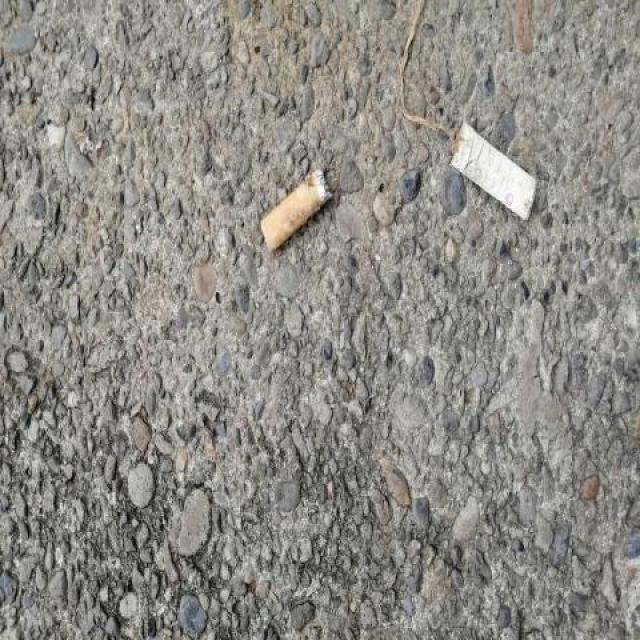non-organic waste: (442, 114, 541, 226), (258, 164, 334, 255)
